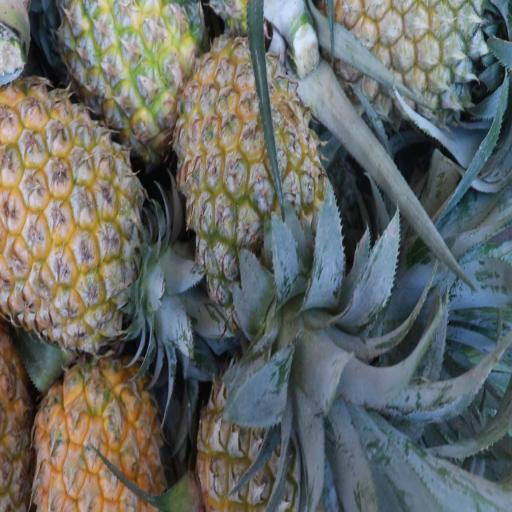------------------------------: (176, 46, 319, 284), (198, 361, 337, 512)
Pineapple - v8 v1: (0, 93, 156, 345), (29, 357, 165, 512), (60, 0, 200, 148)
